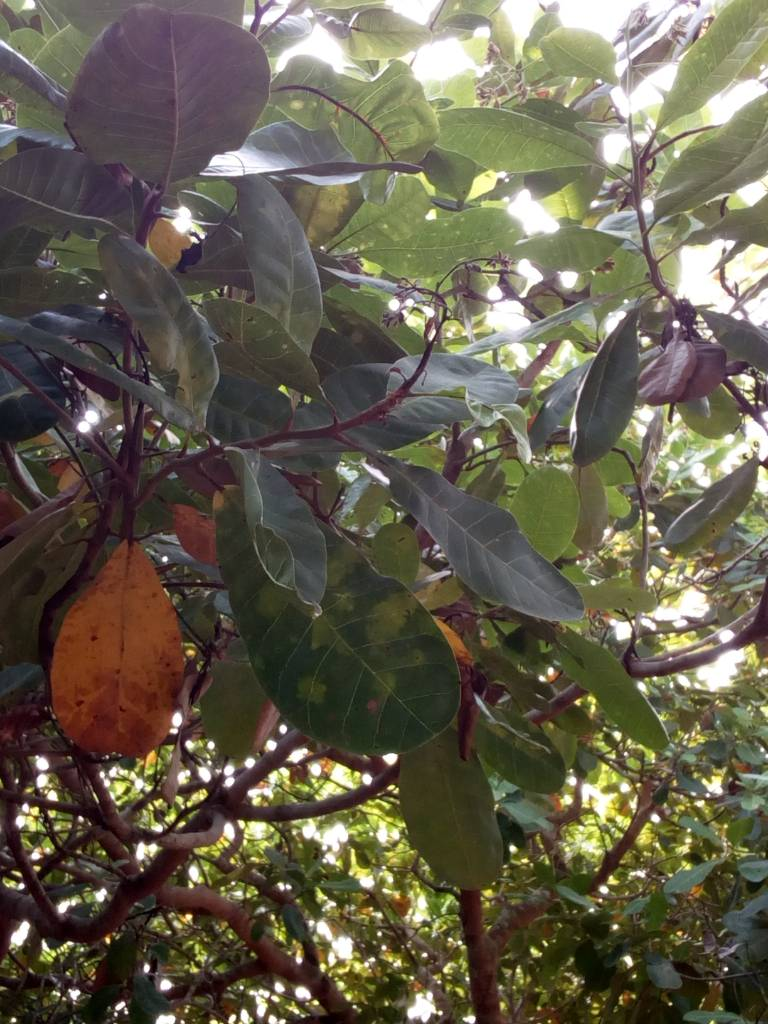Alternariose: (224, 497, 463, 769), (52, 547, 186, 760)
